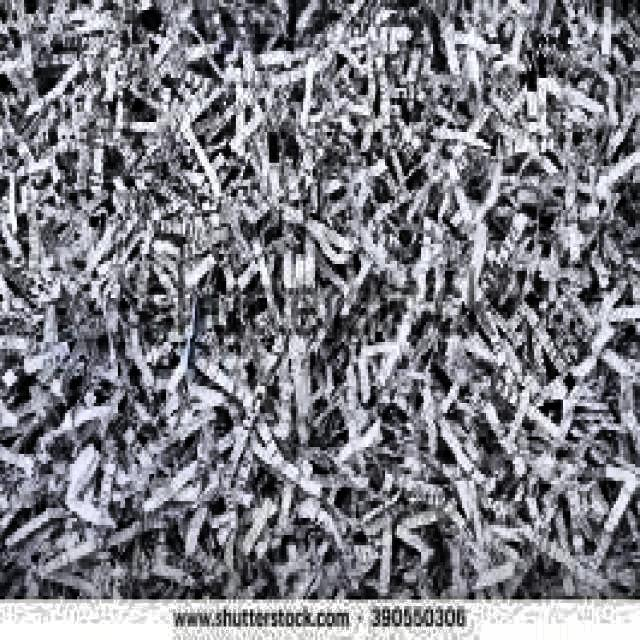Paper: (0, 0, 638, 593)
